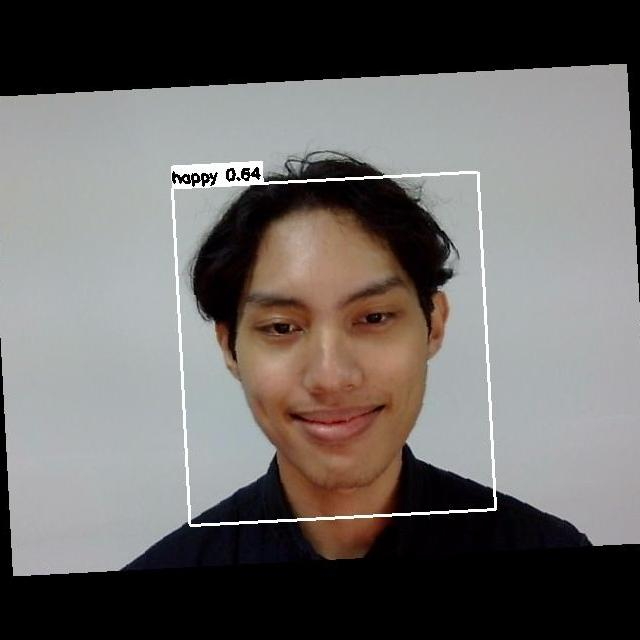Happy: (232, 261, 432, 455)
